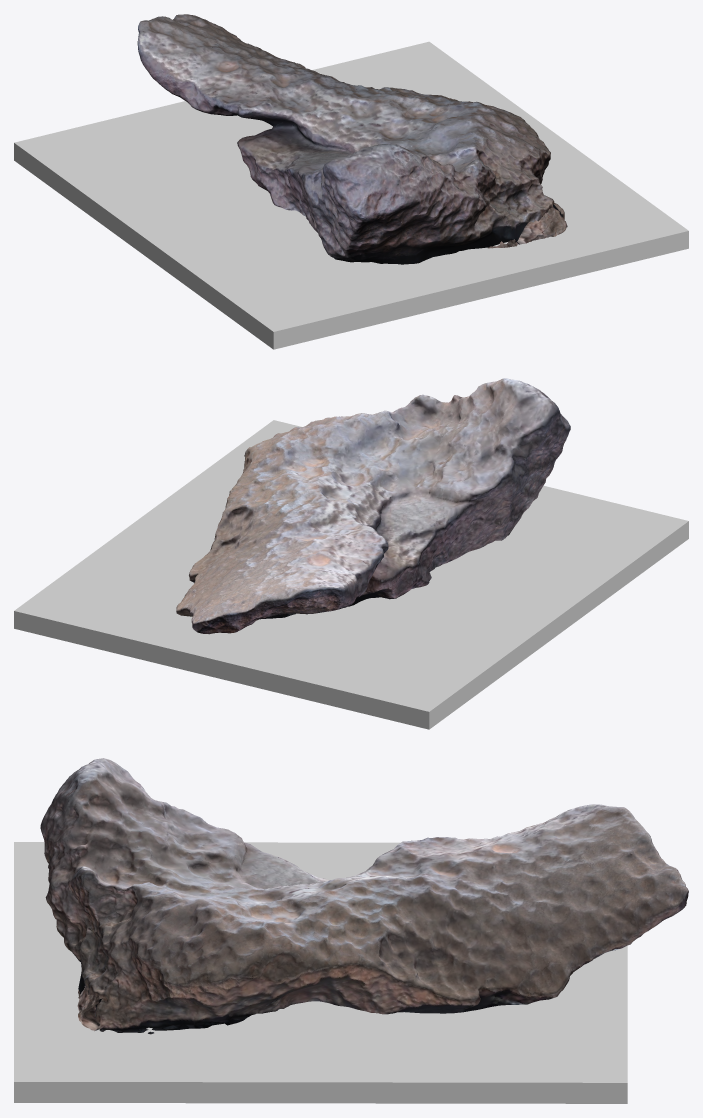
The model's file is Meteoro Hist.glb.
3 renders of one model, top to bottom at view 1: azimuth 30°, elevation 25°; view 2: azimuth 150°, elevation 25°; view 3: azimuth 270°, elevation 25°, orthographic. The views are drawn at different scales.
Visible parts, largest first — view 1: Plano, Meteorito.002; view 2: Plano, Meteorito.002; view 3: Meteorito.002, Plano.
Part boxes in pixels (<box>): Plano: <box>14,41,688,349</box>; Meteorito.002: <box>137,14,567,264</box>; Plano: <box>14,420,688,729</box>; Meteorito.002: <box>176,378,570,634</box>; Meteorito.002: <box>40,758,688,1034</box>; Plano: <box>14,842,627,1103</box>.
Bounding box in the file's own units: 0.7897 × 0.2667 × 0.9404.
4 materials, 3 textured.
